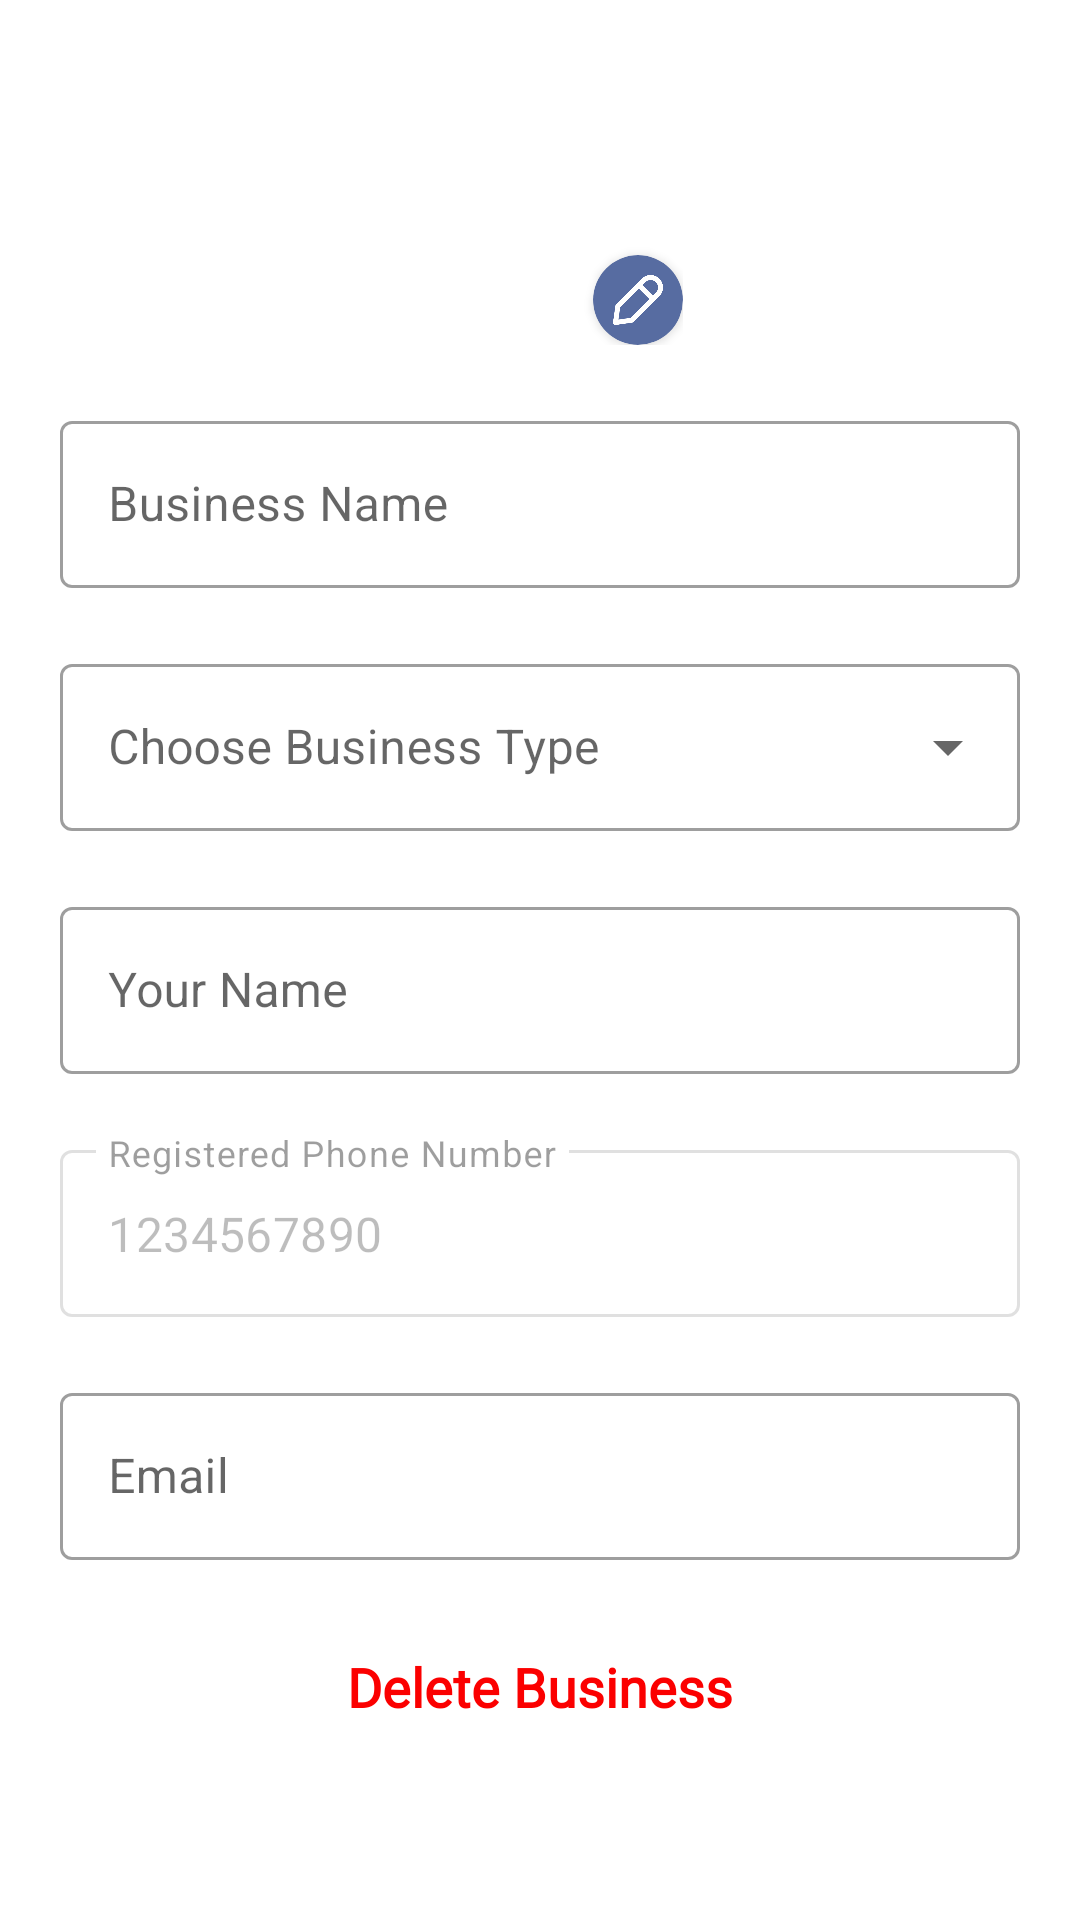

Named icons in this screenshot (1080w x 1920h) and their centers, point (x, y):
edit profile: point (638, 300)
